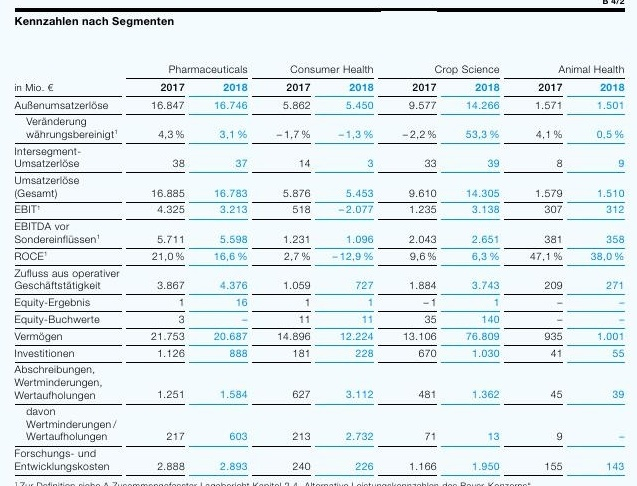table: (0, 0, 637, 486)
